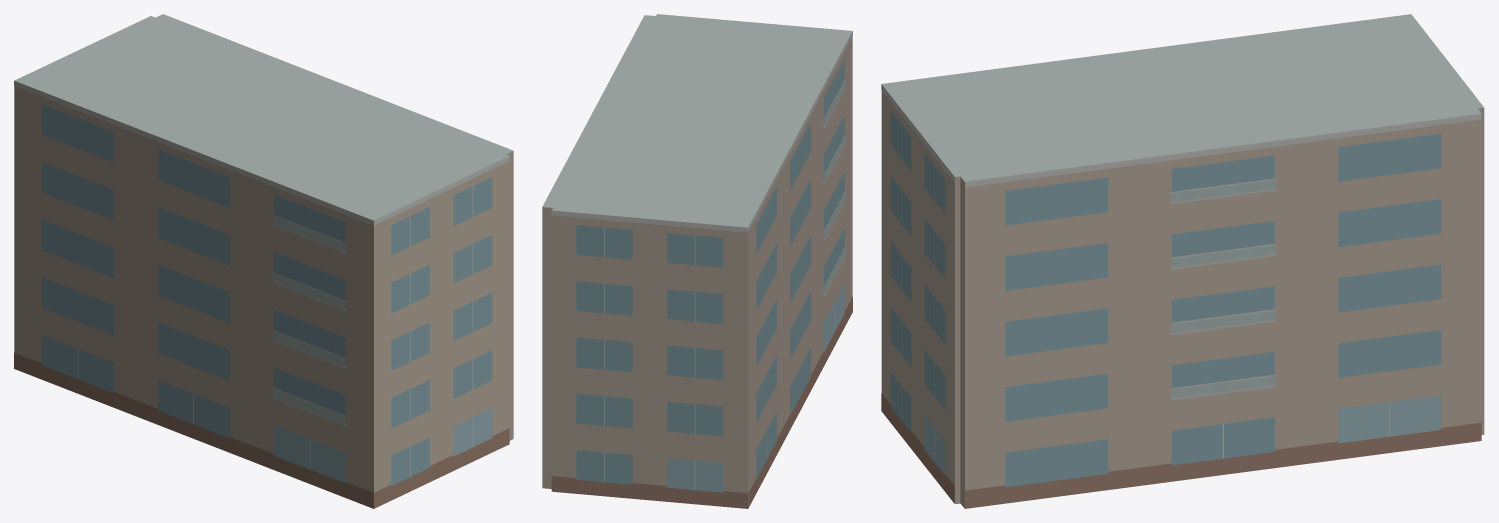
The model's file is survey-upis-32669384.glb.
3 views of the same model, side by side, from view 1: azimuth 30°, elevation 25°; view 2: azimuth 150°, elevation 25°; view 3: azimuth 270°, elevation 25° (orthographic). The views are drawn at different scales.
Visible parts, largest first — view 1: survey-upis-32669384.tmp; view 2: survey-upis-32669384.tmp; view 3: survey-upis-32669384.tmp.
Part boxes in pixels (bbox=[...]): survey-upis-32669384.tmp: bbox=[14, 14, 513, 508]; survey-upis-32669384.tmp: bbox=[542, 14, 852, 508]; survey-upis-32669384.tmp: bbox=[881, 14, 1484, 508].
Bounding box in the file's own units: 15.19 × 13.8 × 23.07.
